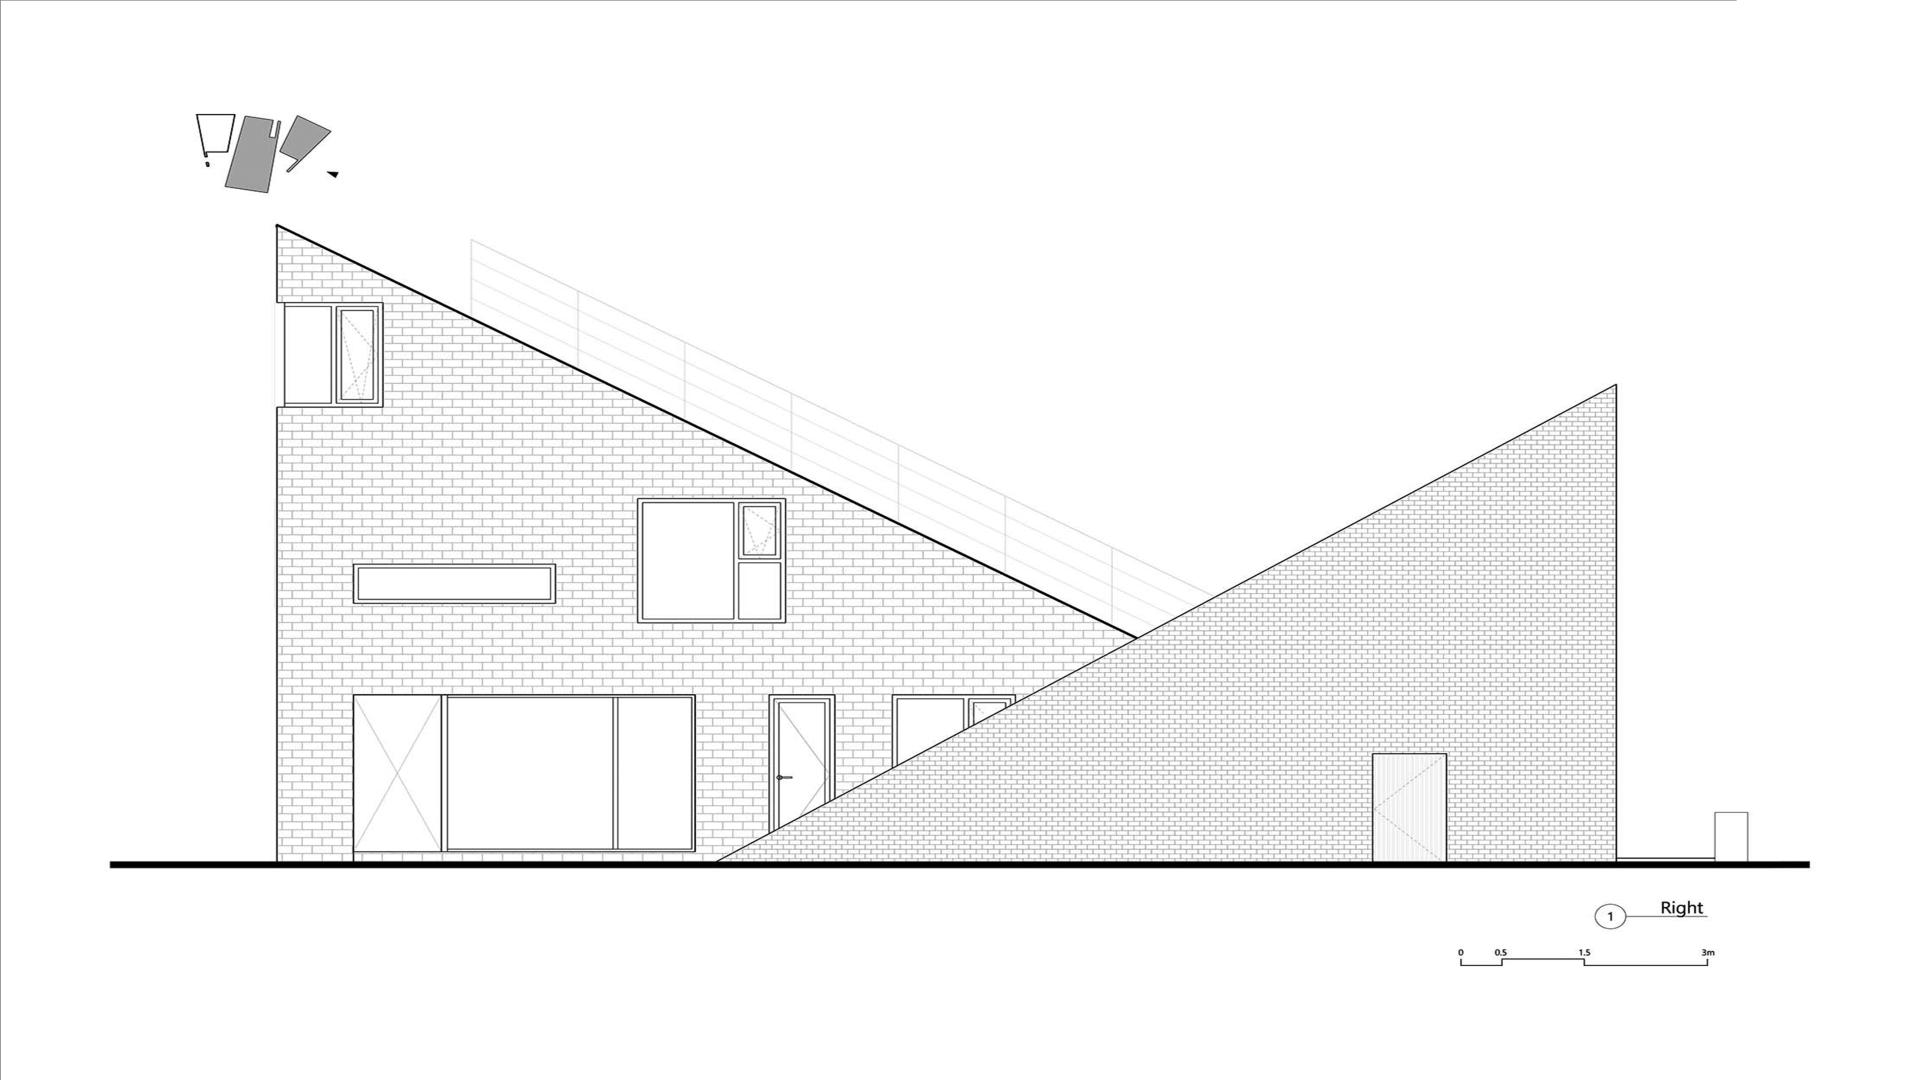door: (768, 694, 836, 833), (1371, 753, 1448, 862)
wall: (276, 224, 1617, 868)
window: (353, 694, 696, 853), (637, 498, 786, 624), (283, 303, 383, 407), (892, 694, 1016, 768), (353, 564, 556, 604)
